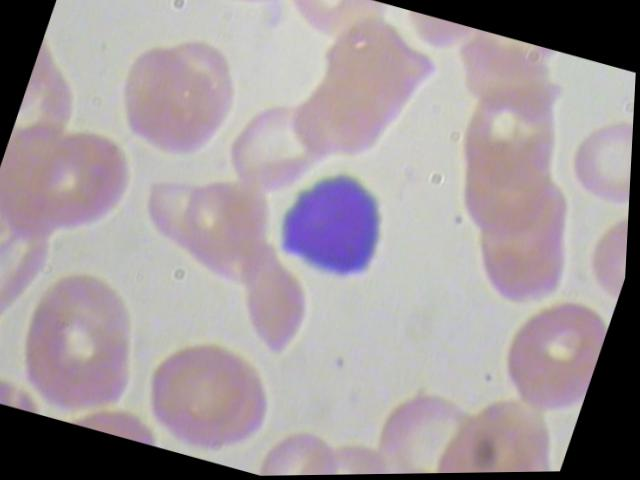Red Blood Cells: (487, 280, 619, 420), (442, 75, 576, 204), (100, 33, 231, 161), (22, 265, 153, 393), (27, 121, 157, 249), (137, 324, 267, 452), (213, 90, 338, 209), (160, 171, 284, 290), (426, 382, 581, 474), (218, 237, 329, 365), (365, 373, 498, 475), (549, 89, 635, 229)
White Blood Cells: (258, 159, 412, 296)
